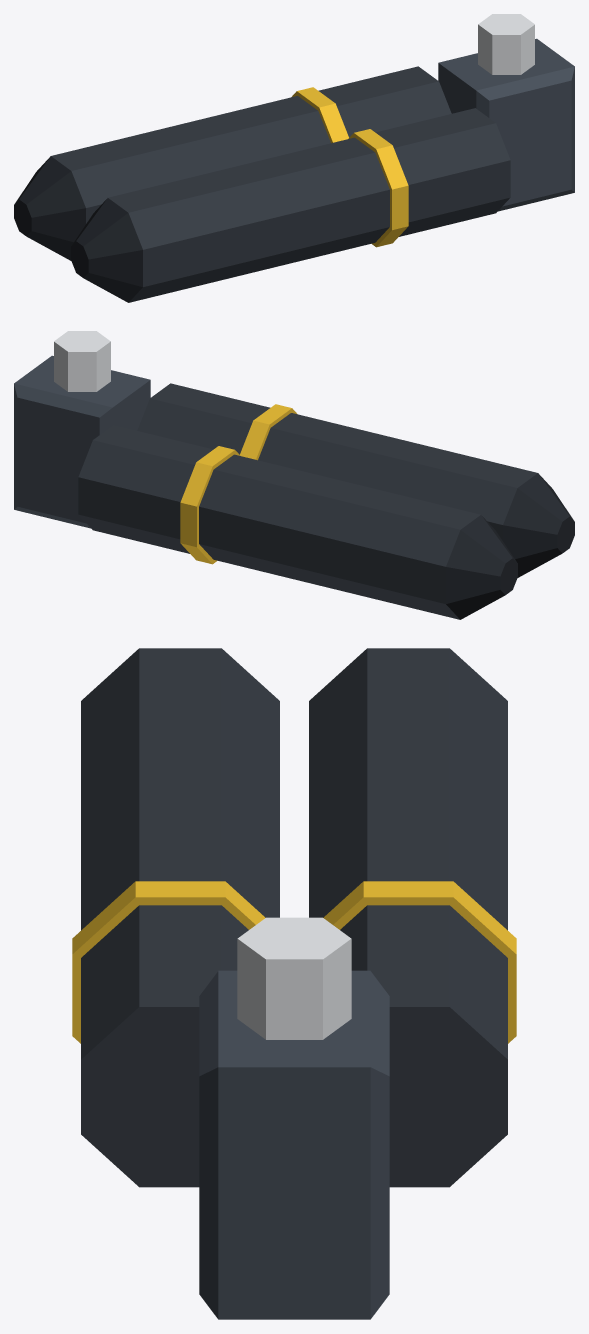
File: tank_twin_bottle.glb
3 renders of one model, top to bottom at view 1: azimuth 30°, elevation 25°; view 2: azimuth 150°, elevation 25°; view 3: azimuth 270°, elevation 25°, orthographic. The views are drawn at different scales.
Visible parts, largest first — view 1: tank_twin_bottle; view 2: tank_twin_bottle; view 3: tank_twin_bottle.
Part boxes in pixels (x1,y1,x2,y2): tank_twin_bottle: [14, 14, 574, 302]; tank_twin_bottle: [14, 331, 574, 619]; tank_twin_bottle: [72, 648, 516, 1319].
Size of the model in its own units: 0.184 by 0.058 by 0.0702.
